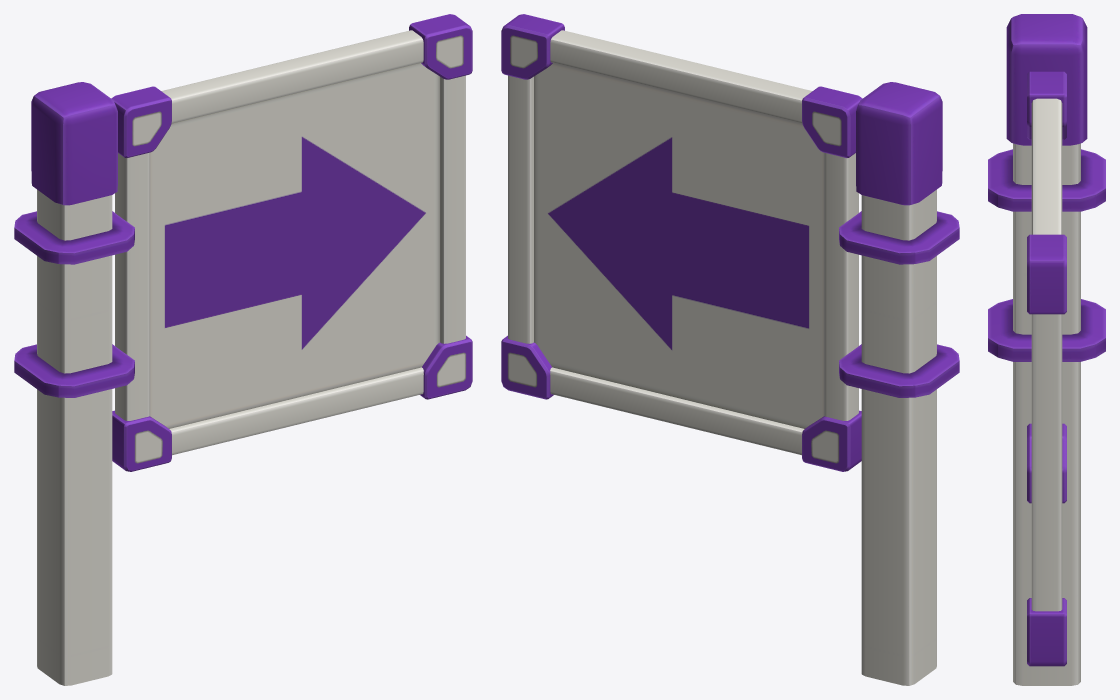
File: arrow sign.glb
3 renders of one model, left to right at view 1: azimuth 30°, elevation 25°; view 2: azimuth 150°, elevation 25°; view 3: azimuth 270°, elevation 25°, orthographic. The views are drawn at different scales.
Parts seen in each view (by area): view 1: DiscGolf2_Sign; view 2: DiscGolf2_Sign; view 3: DiscGolf2_Sign.
Part boxes in pixels (x1=…): DiscGolf2_Sign: x1=14, y1=14, x2=472, y2=685; DiscGolf2_Sign: x1=501, y1=14, x2=959, y2=685; DiscGolf2_Sign: x1=988, y1=14, x2=1105, y2=685.
Size of the model in its own units: 0.8339 by 1.05 by 0.1735.
1 material, 1 textured.
